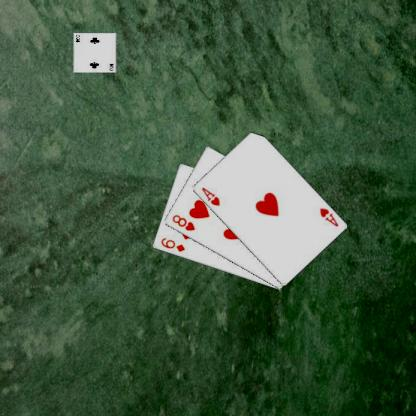6D: (158, 235, 186, 253)
8H: (169, 212, 196, 232)
AH: (198, 184, 221, 208), (316, 206, 340, 228)
